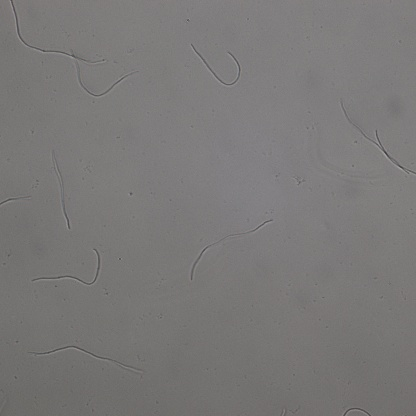Sensitive: (10, 1, 105, 66), (340, 104, 416, 176), (190, 218, 272, 279), (29, 344, 138, 374), (71, 50, 139, 97), (32, 249, 101, 286), (192, 42, 241, 86), (51, 152, 71, 228), (1, 194, 32, 210), (341, 406, 370, 416)
